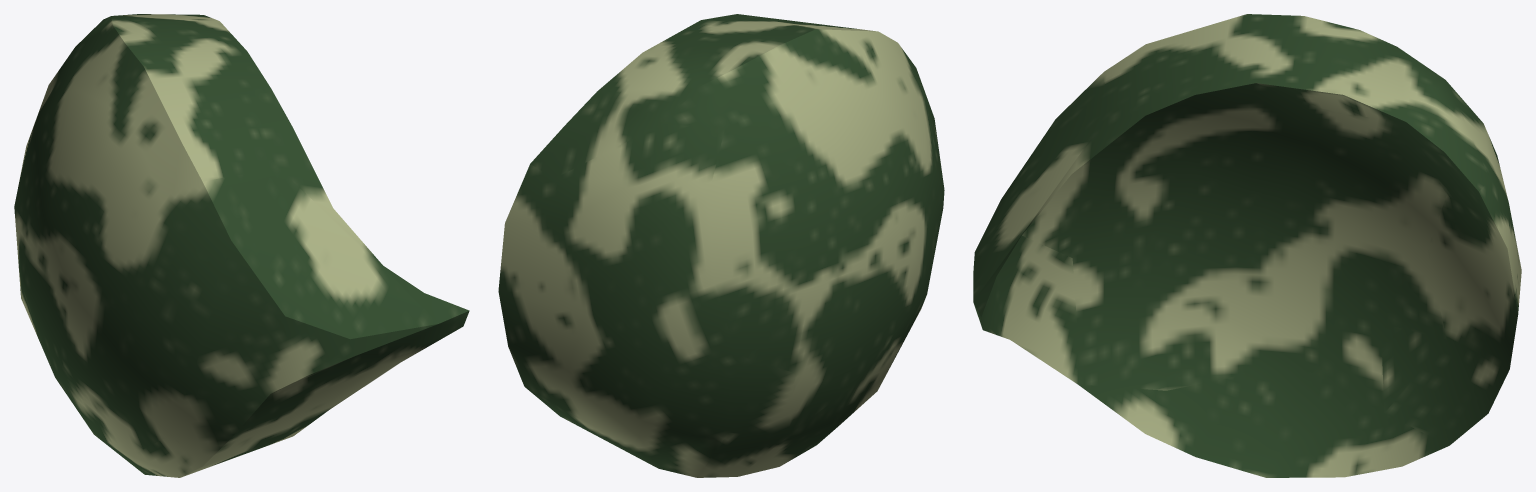
File: link_body_19.obj
The picture shows the model from 3 angles, left to right: view 1: azimuth 30°, elevation 25°; view 2: azimuth 150°, elevation 25°; view 3: azimuth 270°, elevation 25°; orthographic projection. The views are drawn at different scales.
Parts seen in each view (by area): view 1: link_body_19; view 2: link_body_19; view 3: link_body_19.
Part boxes in pixels (<box>): link_body_19: <box>14,14,469,477</box>; link_body_19: <box>498,14,944,477</box>; link_body_19: <box>973,14,1521,477</box>.
Bounding box in the file's own units: 8.19 × 11.44 × 13.36.
